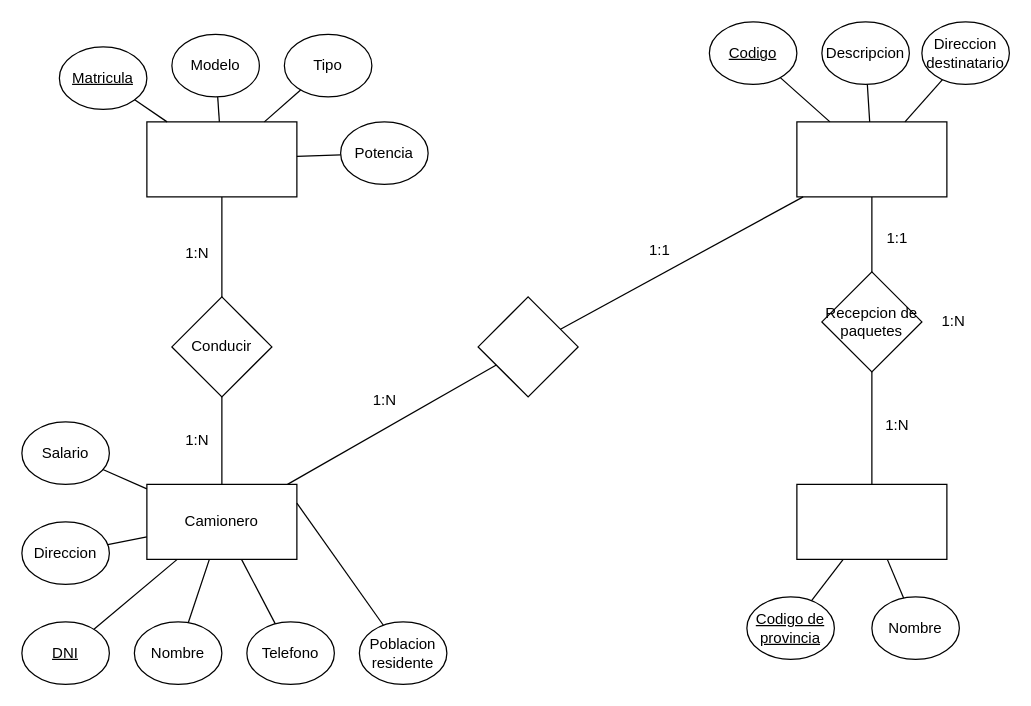
Some shapes in this 1031 by 706 pixel diagram are drawn without their labels. Here are the shapes that lost their labels. From the top down, the box of each, then its label:
(146, 121, 297, 197): Camion
(796, 121, 947, 197): Paquete
(477, 296, 578, 397): Distribucion
(796, 483, 947, 559): Provincia
